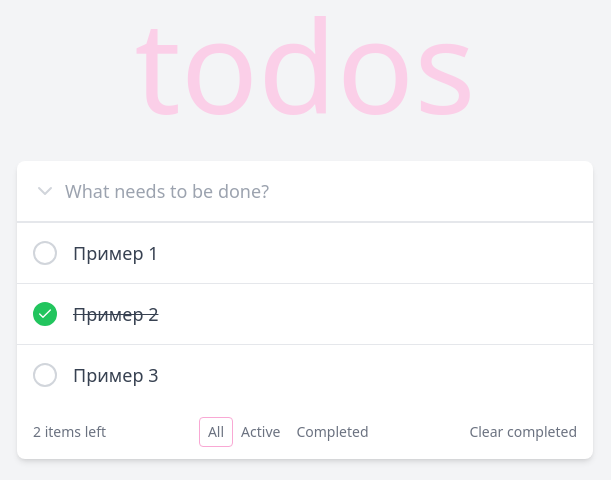
Test: filters completed todos
Click the button "Completed". click: (332, 432)
box: [288,417,376,447]
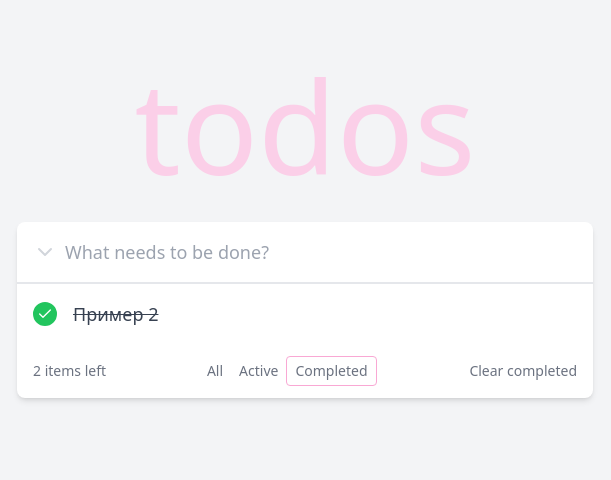
Expected: the text "Пример 1" is gone
Expected: the text "Пример 3" is gone
Click the text "Пример 2". click: (116, 314)
box: [73,300,158,328]
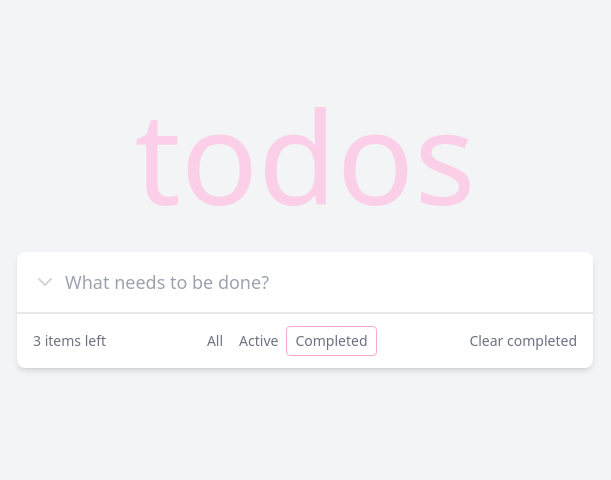
Expected: the text "Пример 2" is gone
